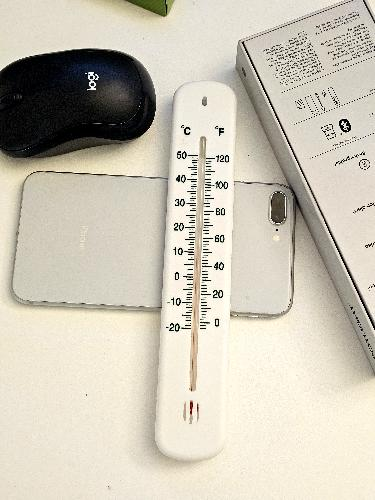thermo: (152, 80, 242, 458)
